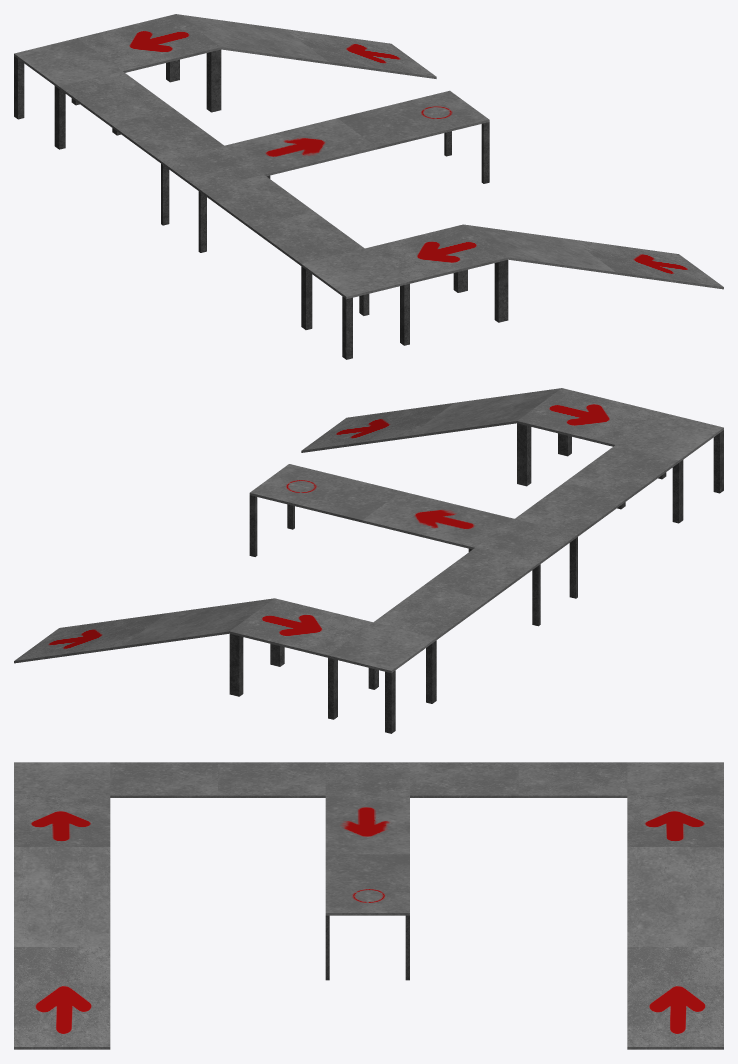
The model's file is M2_Reactor_WalkWay.fbx.
3 views of the same model, one above another, from view 1: azimuth 30°, elevation 25°; view 2: azimuth 150°, elevation 25°; view 3: azimuth 270°, elevation 25° (orthographic). The views are drawn at different scales.
Visible parts, largest first — view 1: WalkWay; view 2: WalkWay; view 3: WalkWay.
Boxes of the visible parts, x1,y1,x2,y2 form: WalkWay: (14, 14, 723, 359); WalkWay: (14, 388, 723, 733); WalkWay: (14, 762, 723, 1049).
Bounding box in the file's own units: 1.68 × 0.3604 × 2.57.
Materials: 1 (1 with a texture image).
